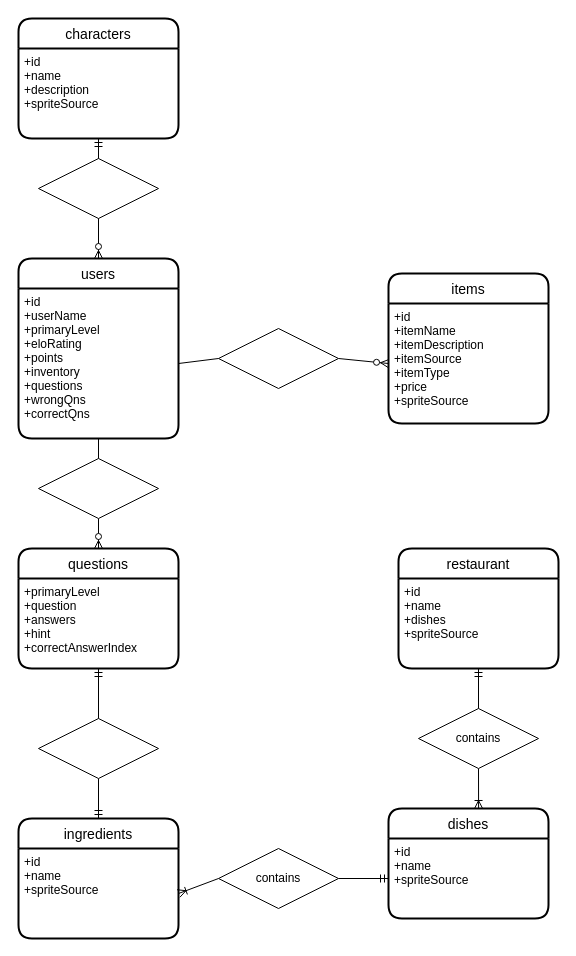
Some shapes in this 576 by 956 pixel diagram are drawn without their labels. Here are the shapes that lost their labels. From the top down, the centre of each, then its label:
At point (98, 188): "Chooses".
At point (278, 358): "owns".
At point (98, 488): "answers".
At point (98, 748): "is attached".
